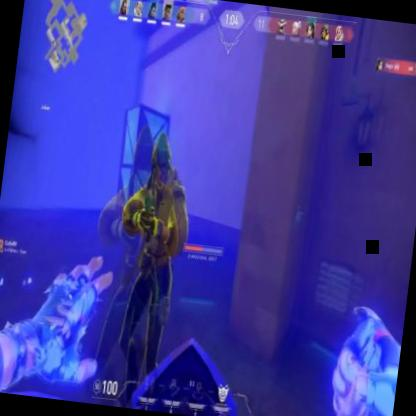enemy: (98, 126, 200, 412)
enemy_head: (147, 130, 176, 190)
